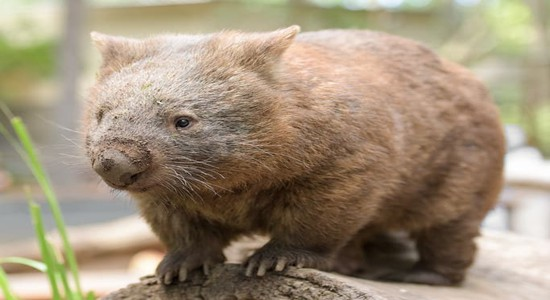Wombat: (79, 22, 508, 289)
